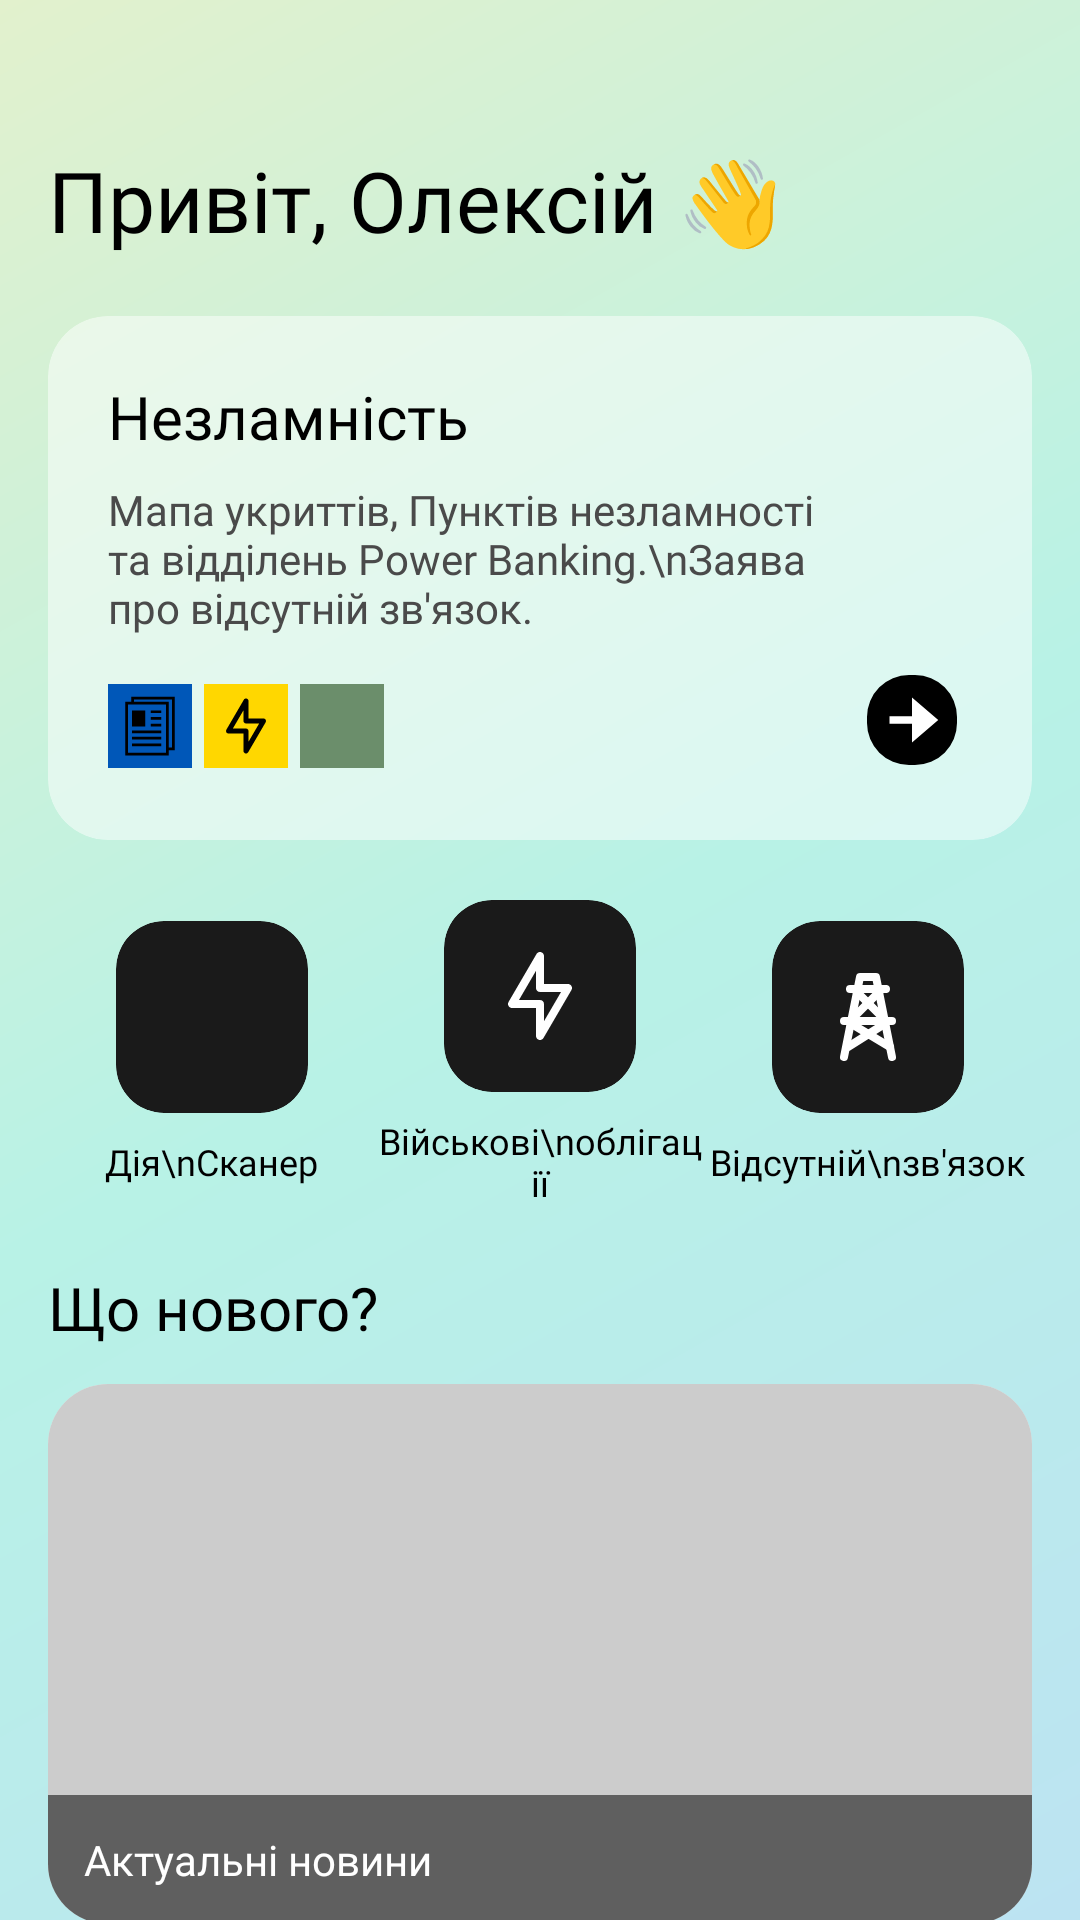

Where to tap for icons on this 1080*1920 app screen, as (x,y):
arrow: (912,720)
documents: (150,726)
signal: (868,1017)
